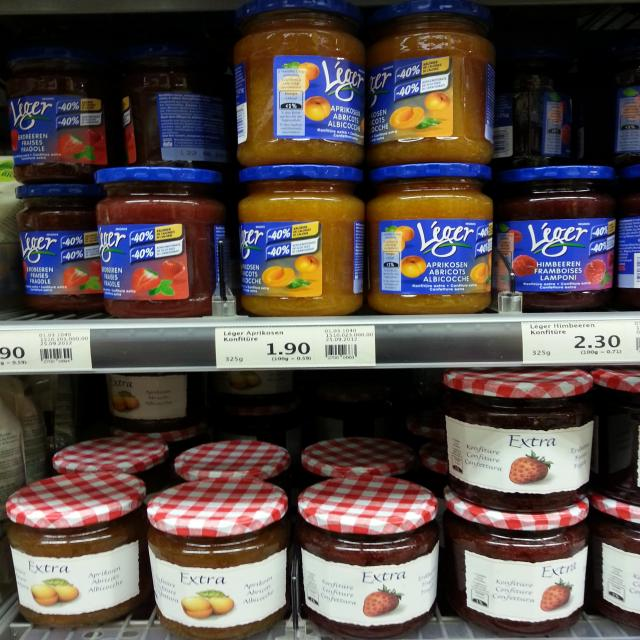Spreads: (298, 474, 443, 640), (148, 478, 290, 640), (444, 366, 598, 514), (7, 469, 146, 632), (232, 0, 368, 166), (443, 490, 590, 637), (367, 0, 497, 165), (90, 164, 220, 318), (370, 160, 498, 313), (242, 164, 363, 318), (498, 162, 620, 312), (8, 40, 118, 186), (112, 42, 230, 170), (13, 182, 103, 314)
